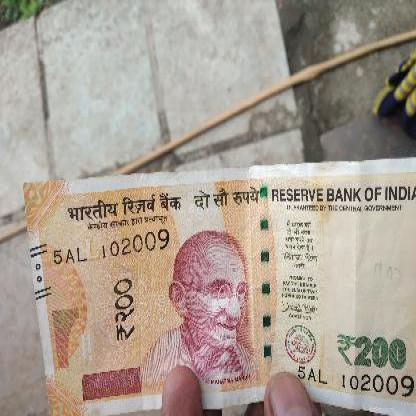New200Front: (21, 178, 415, 402)
